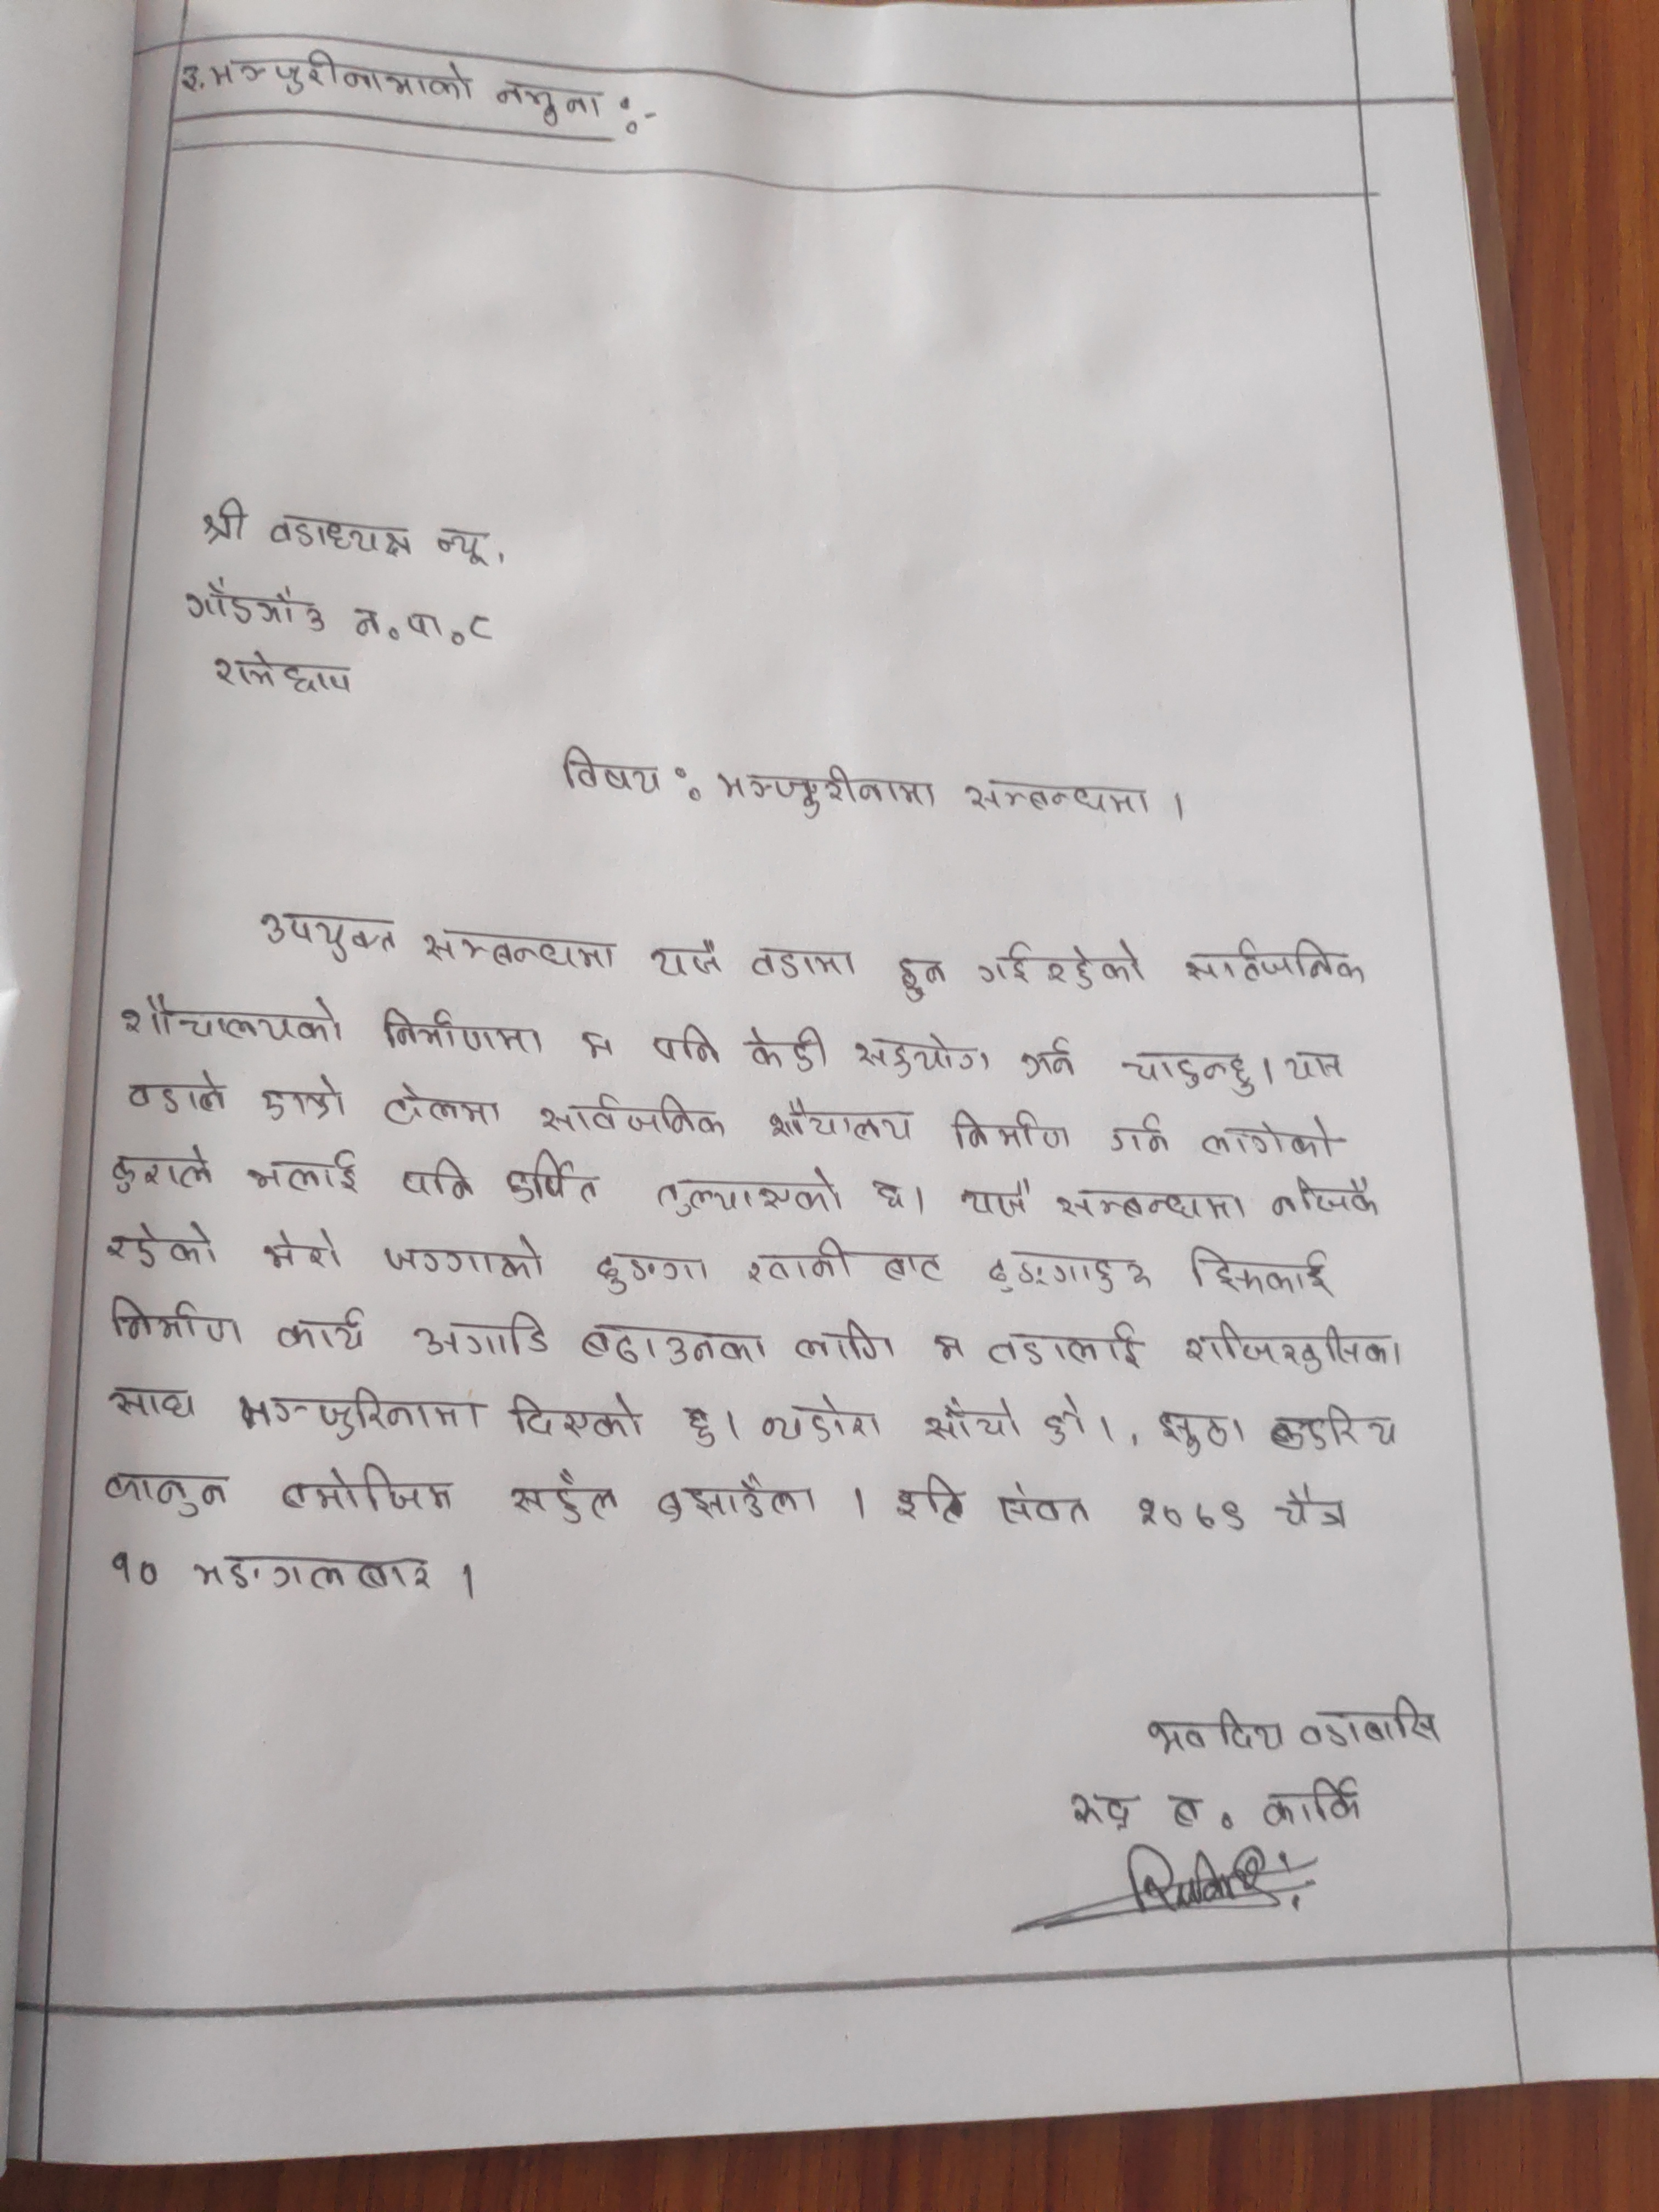text: (206, 47, 477, 108), (232, 1381, 481, 1442), (113, 988, 343, 1049), (713, 761, 943, 820), (1185, 1318, 1410, 1372), (739, 1233, 946, 1291), (188, 1548, 444, 1594), (418, 920, 626, 975), (279, 1456, 465, 1517), (648, 1163, 849, 1219), (573, 1322, 772, 1378), (1183, 935, 1368, 991), (380, 1230, 558, 1285), (972, 935, 1148, 991), (648, 1470, 817, 1527), (1293, 1689, 1446, 1752), (981, 1318, 1148, 1374), (537, 1090, 727, 1139), (181, 573, 328, 636), (964, 772, 1152, 820), (1180, 1240, 1338, 1296), (983, 1245, 1152, 1298), (380, 1005, 552, 1055), (1053, 1181, 1251, 1224), (408, 1306, 552, 1366), (1265, 1397, 1408, 1456), (1141, 1707, 1293, 1763), (254, 907, 399, 965), (106, 1291, 251, 1348), (1117, 1045, 1260, 1101), (1256, 1771, 1377, 1836), (263, 510, 416, 561), (207, 648, 356, 700), (845, 1028, 993, 1080), (505, 1388, 647, 1442), (101, 1465, 235, 1521), (765, 1099, 922, 1146), (753, 1393, 884, 1449), (504, 1467, 624, 1524), (1127, 1484, 1248, 1541), (237, 1146, 366, 1198), (1197, 1115, 1340, 1162), (498, 1150, 606, 1211), (99, 1219, 225, 1270), (493, 77, 606, 132), (788, 1313, 897, 1371), (120, 1064, 232, 1120), (918, 1390, 1028, 1446), (554, 744, 666, 798), (946, 1108, 1073, 1155), (380, 1080, 502, 1129), (1260, 1174, 1382, 1223), (106, 1143, 213, 1198), (268, 1301, 373, 1357), (591, 1251, 709, 1298), (990, 1480, 1100, 1531), (1269, 1480, 1358, 1540), (254, 1073, 347, 1127), (1152, 1407, 1249, 1458), (739, 1024, 835, 1075), (392, 1151, 481, 1204), (748, 942, 857, 984), (101, 1379, 199, 1426), (1054, 1784, 1140, 1834), (957, 1176, 1040, 1224), (894, 1468, 964, 1526), (260, 1230, 342, 1275), (352, 601, 444, 641), (1103, 1111, 1176, 1162), (645, 935, 725, 981), (192, 493, 251, 552), (652, 1021, 725, 1068), (892, 953, 957, 1005), (1037, 1390, 1091, 1449), (432, 524, 493, 573), (1014, 1036, 1075, 1085), (1283, 1050, 1356, 1087), (674, 1402, 725, 1454), (1162, 1785, 1208, 1836), (110, 1547, 160, 1590), (922, 1324, 967, 1367), (875, 1174, 913, 1214), (575, 1031, 617, 1064), (465, 604, 493, 651)
